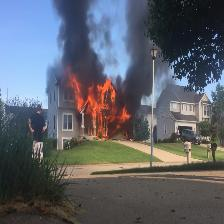fire: (75, 85, 114, 135)
smoke: (59, 0, 93, 79), (125, 2, 148, 106)
